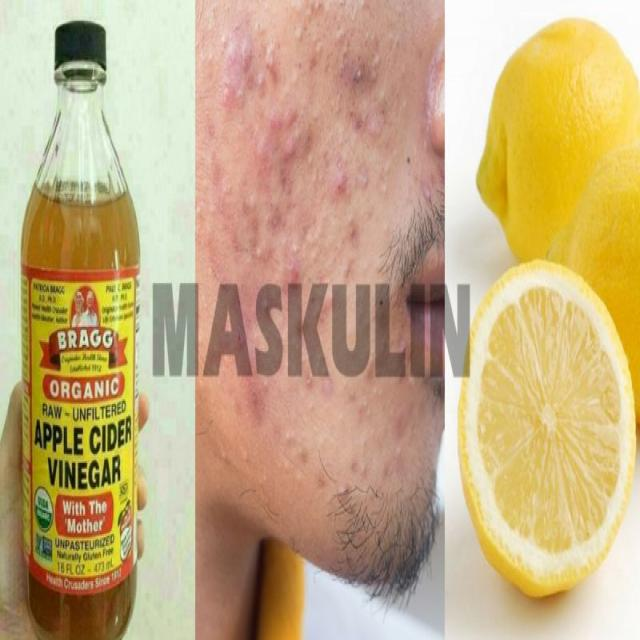Acne: (194, 2, 433, 512)
